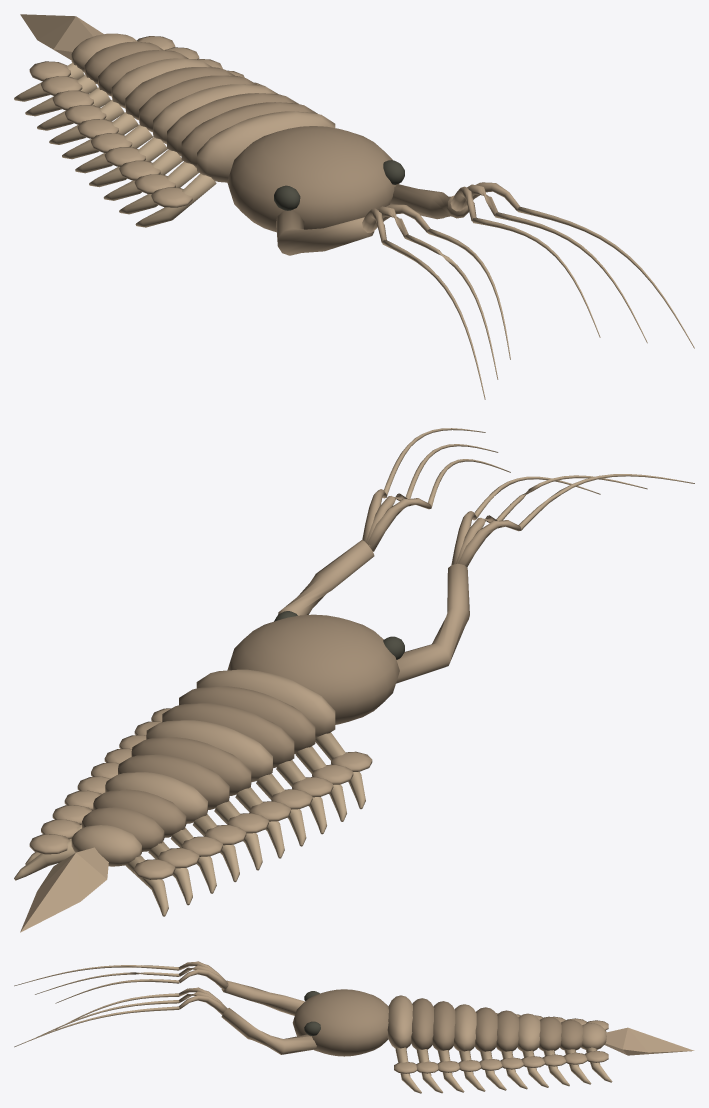
Rendered from leanchoilia.glb.
3 renders of one model, top to bottom at view 1: azimuth 30°, elevation 25°; view 2: azimuth 150°, elevation 25°; view 3: azimuth 270°, elevation 25°, orthographic. The views are drawn at different scales.
Parts seen in each view (by area): view 1: overlapping-articulated-trunk-tergites, paired-simplified-walking-and-swimming-limbs, single-rounded-head-shield-and-small-eyes, great-appendages-with-three-flagellate-fingers, lanceolate-terminal-telson; view 2: overlapping-articulated-trunk-tergites, paired-simplified-walking-and-swimming-limbs, great-appendages-with-three-flagellate-fingers, single-rounded-head-shield-and-small-eyes, lanceolate-terminal-telson; view 3: overlapping-articulated-trunk-tergites, great-appendages-with-three-flagellate-fingers, paired-simplified-walking-and-swimming-limbs, single-rounded-head-shield-and-small-eyes, lanceolate-terminal-telson.
Boxes of the visible parts, x1,y1,x2,y2 form: overlapping-articulated-trunk-tergites: [71, 33, 335, 182]; paired-simplified-walking-and-swimming-limbs: [14, 36, 265, 227]; single-rounded-head-shield-and-small-eyes: [227, 126, 404, 232]; great-appendages-with-three-flagellate-fingers: [276, 182, 694, 399]; lanceolate-terminal-telson: [20, 14, 103, 60]; overlapping-articulated-trunk-tergites: [71, 669, 335, 866]; paired-simplified-walking-and-swimming-limbs: [14, 708, 372, 916]; great-appendages-with-three-flagellate-fingers: [278, 428, 694, 683]; single-rounded-head-shield-and-small-eyes: [227, 611, 404, 724]; lanceolate-terminal-telson: [20, 847, 108, 932]; overlapping-articulated-trunk-tergites: [387, 995, 606, 1051]; great-appendages-with-three-flagellate-fingers: [14, 961, 316, 1054]; paired-simplified-walking-and-swimming-limbs: [394, 1013, 612, 1093]; single-rounded-head-shield-and-small-eyes: [292, 989, 388, 1056]; lanceolate-terminal-telson: [604, 1027, 694, 1055].
Size of the model in its own units: 0.0233 by 0.0136 by 0.1016.
